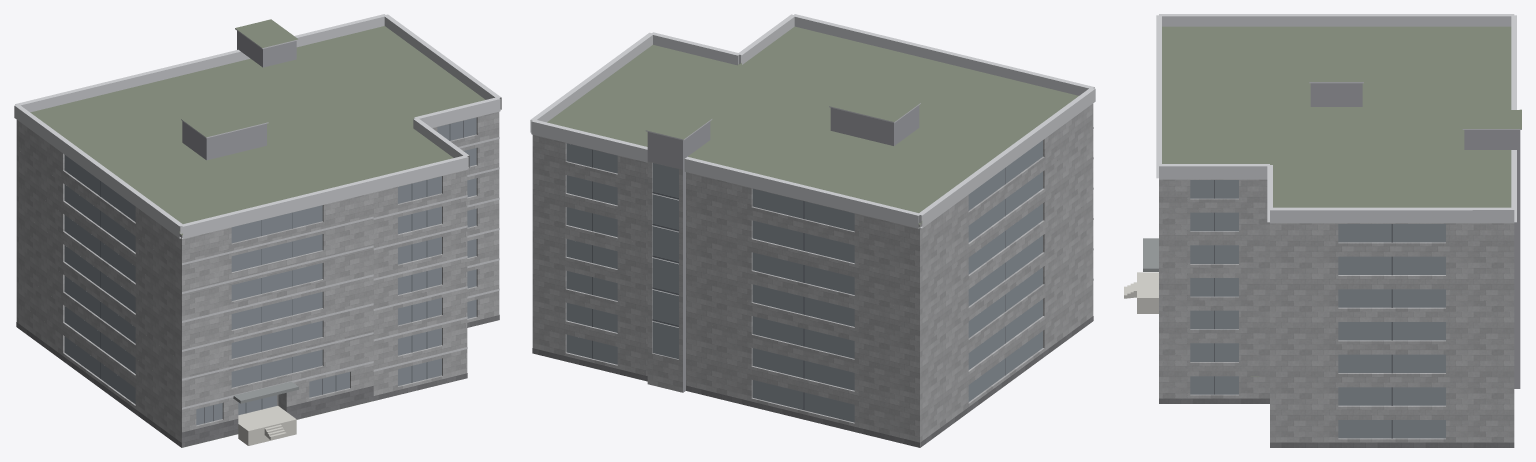
3 views of the same model, side by side, from view 1: azimuth 30°, elevation 25°; view 2: azimuth 150°, elevation 25°; view 3: azimuth 270°, elevation 25° (orthographic). The views are drawn at different scales.
Parts seen in each view (by area): view 1: b101__wall, b101__roof, b101__glass, b101__trim, b101__base, b101__wall2, b101__entranceStair, b101__frame, b101__canopy; view 2: b101__wall, b101__roof, b101__glass, b101__trim, b101__wall2, b101__base, b101__frame; view 3: b101__wall, b101__roof, b101__glass, b101__trim, b101__wall2, b101__base, b101__entranceStair, b101__canopy, b101__frame.
Boxes of the visible parts, x1=… form: b101__wall: x1=16, y1=111, x2=499, y2=447; b101__roof: x1=30, y1=19, x2=485, y2=447; b101__glass: x1=64, y1=117, x2=476, y2=425; b101__trim: x1=14, y1=14, x2=501, y2=409; b101__base: x1=16, y1=315, x2=499, y2=447; b101__wall2: x1=182, y1=31, x2=296, y2=160; b101__entranceStair: x1=238, y1=406, x2=296, y2=445; b101__frame: x1=100, y1=120, x2=463, y2=423; b101__canopy: x1=233, y1=381, x2=298, y2=403; b101__wall: x1=532, y1=103, x2=1093, y2=447; b101__roof: x1=547, y1=26, x2=1078, y2=224; b101__glass: x1=566, y1=140, x2=1042, y2=422; b101__trim: x1=530, y1=14, x2=1095, y2=280; b101__wall2: x1=647, y1=105, x2=919, y2=392; b101__base: x1=532, y1=316, x2=1093, y2=447; b101__frame: x1=592, y1=149, x2=1005, y2=409; b101__wall: x1=1159, y1=179, x2=1514, y2=442; b101__roof: x1=1162, y1=26, x2=1521, y2=376; b101__glass: x1=1190, y1=180, x2=1445, y2=438; b101__trim: x1=1156, y1=14, x2=1521, y2=223; b101__wall2: x1=1310, y1=83, x2=1520, y2=388; b101__base: x1=1159, y1=398, x2=1514, y2=447; b101__entranceStair: x1=1124, y1=272, x2=1158, y2=313; b101__canopy: x1=1143, y1=238, x2=1158, y2=271; b101__frame: x1=1214, y1=180, x2=1392, y2=438.
Size of the model in its own units: 46.34 by 29.26 by 39.71.
10 materials, 2 textured.
